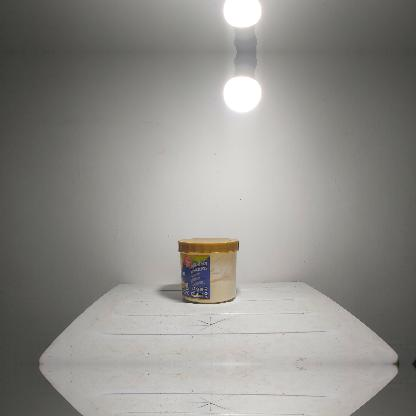Lady-s-Choice: (176, 236, 240, 304)
